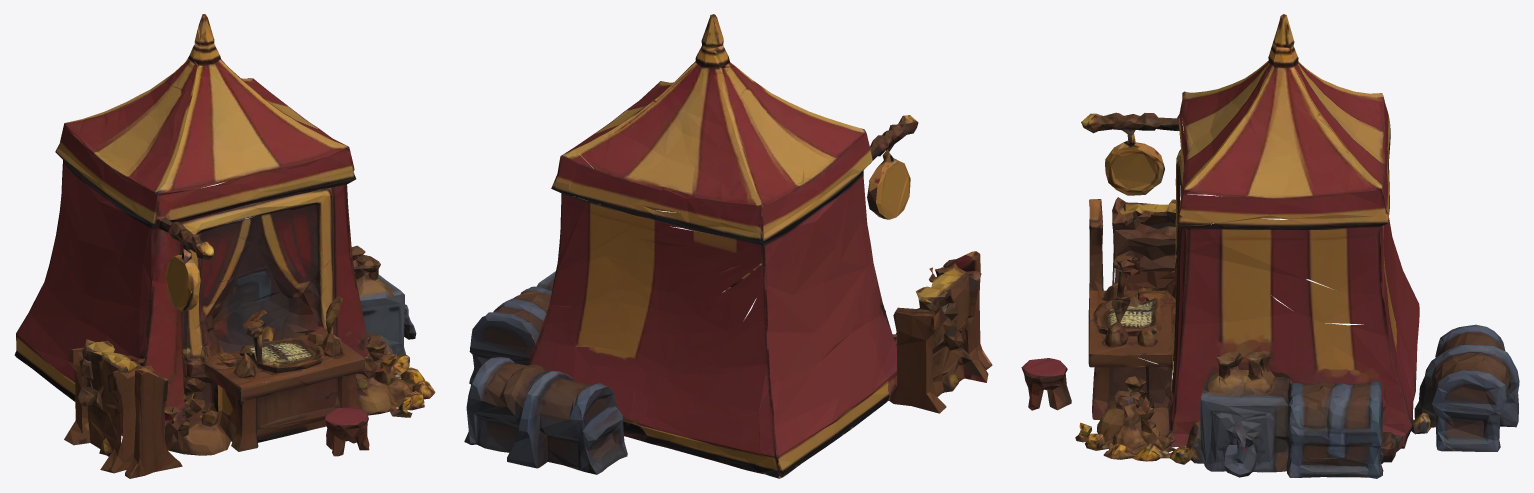
The model's file is tax_office.glb.
3 views of the same model, side by side, from view 1: azimuth 30°, elevation 25°; view 2: azimuth 150°, elevation 25°; view 3: azimuth 270°, elevation 25° (orthographic). The views are drawn at different scales.
Visible parts, largest first — view 1: geometry_0; view 2: geometry_0; view 3: geometry_0.
Part boxes in pixels (<box>): geometry_0: <box>14,14,435,478</box>; geometry_0: <box>464,14,992,478</box>; geometry_0: <box>1021,14,1519,478</box>.
Size of the model in its own units: 3.73 by 3.49 by 4.2.
1 material, 1 textured.
